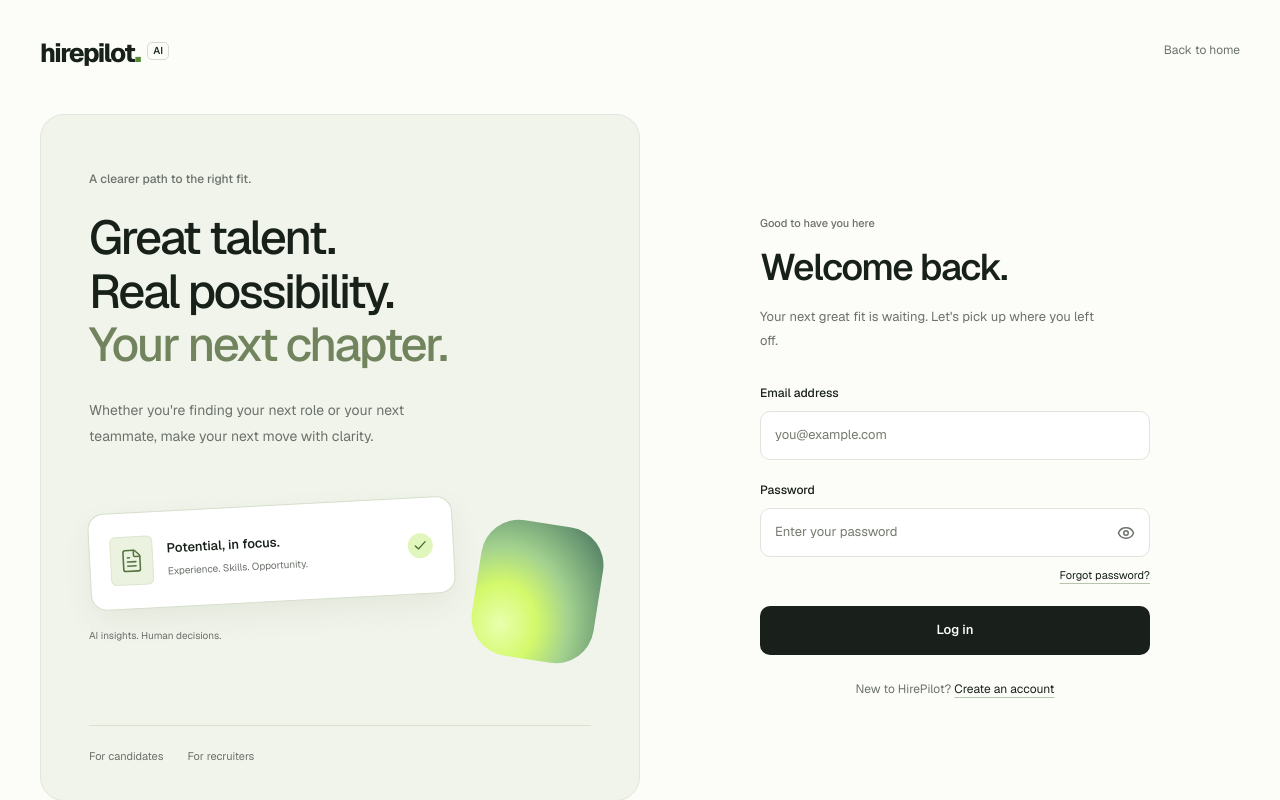
real forms, provider, API client, and route guards › handles invalid credentials without refreshing or redirecting
The width and height of the screenshot is (1280, 800).
Expected: the heading "Welcome back." is shown, [760,243,1007,291]
Step 1. Type "alex@example.com" into the field labelled "Email address" → (955, 436), box [760,411,1150,460]
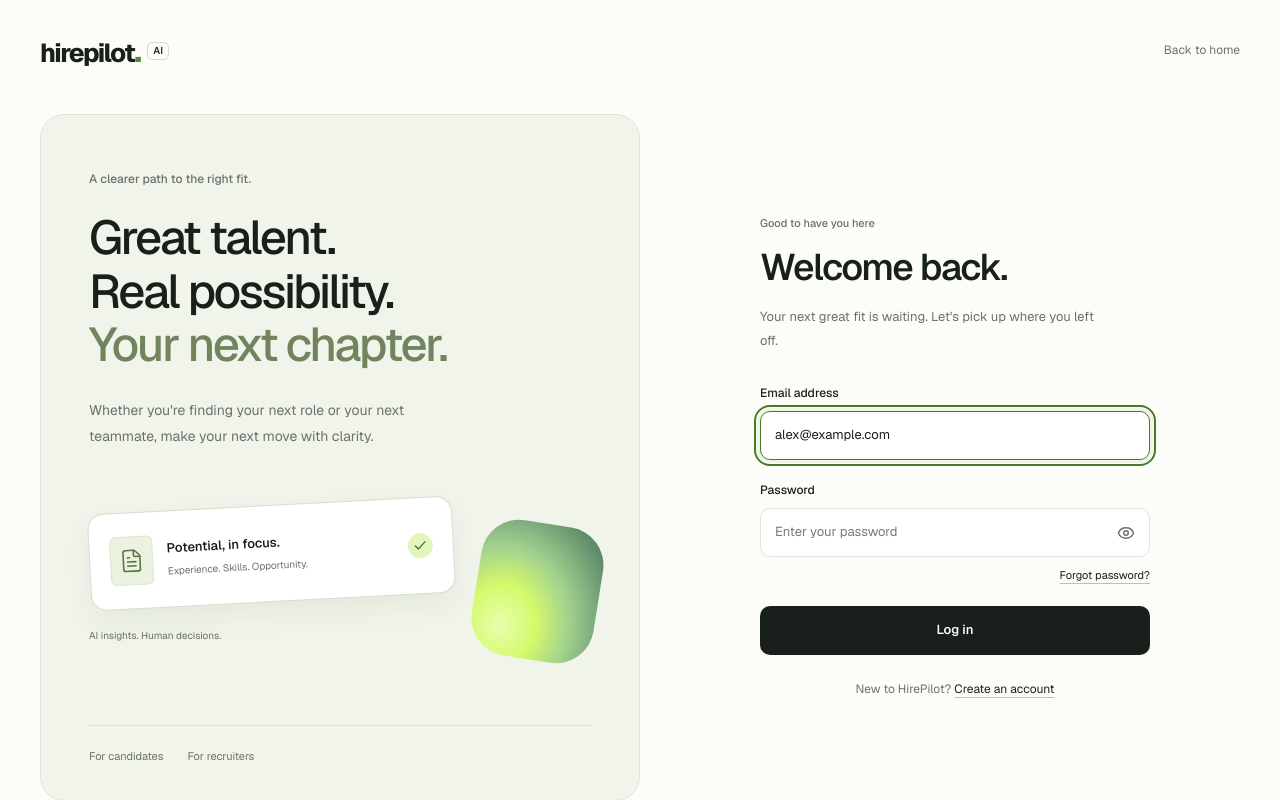
Step 2. Type "wrong-password" into the password field labelled "Password" → (955, 533), box [760,508,1150,557]
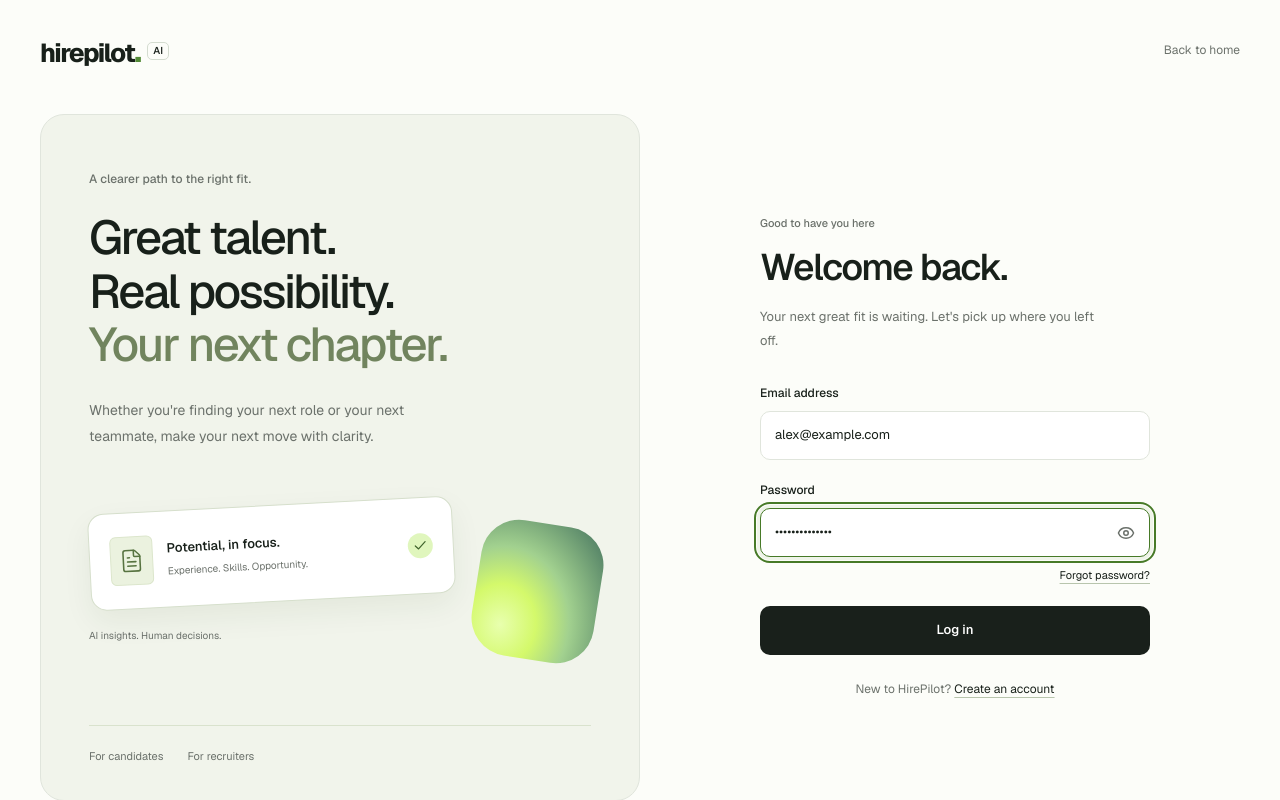
Step 3. Click the button "Log in" → (955, 630), box [760,606,1150,655]
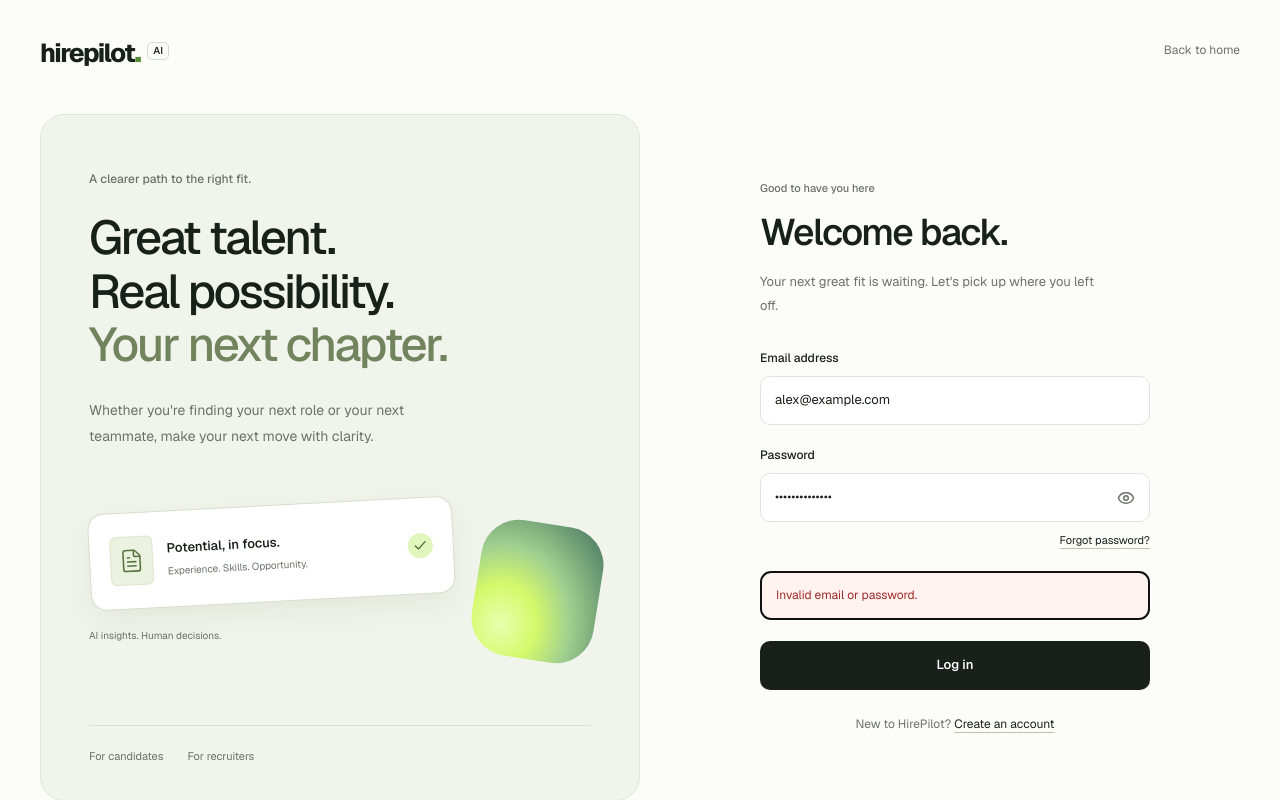
Expected: the button "Log in" is enabled, [760,641,1150,690]
Result: the message shows "Invalid email or password" at [776,587,917,603]
